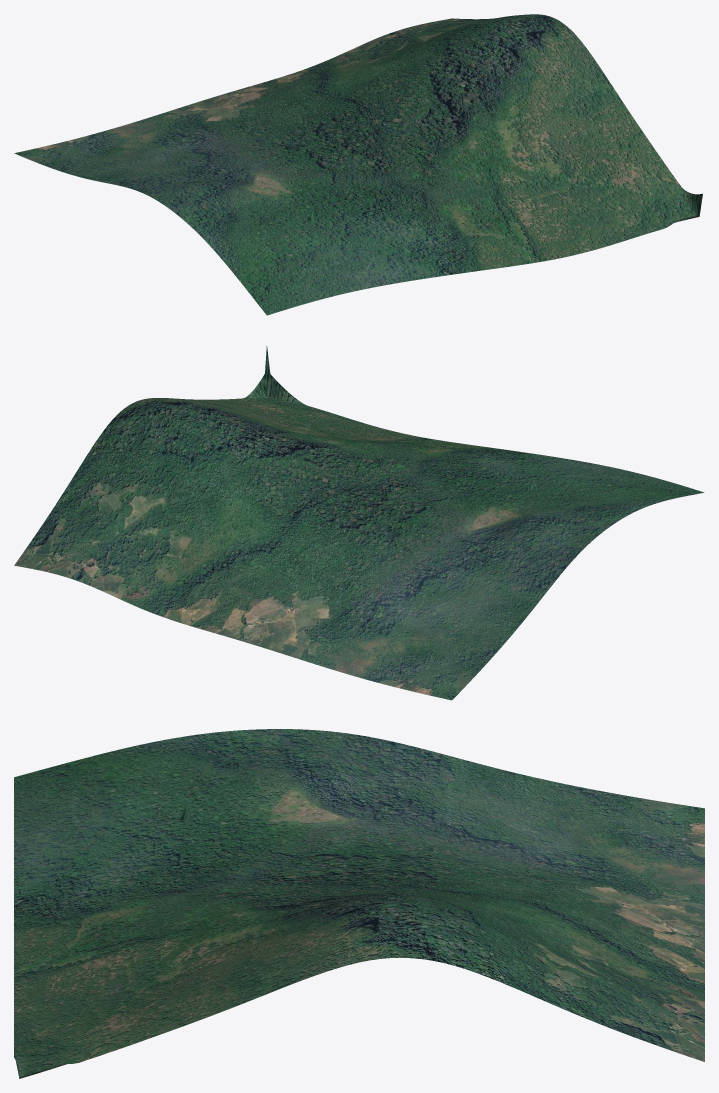
File: terrain_real_T_E00_N06.glb
The picture shows the model from 3 angles, top to bottom: view 1: azimuth 30°, elevation 25°; view 2: azimuth 150°, elevation 25°; view 3: azimuth 270°, elevation 25°; orthographic projection. The views are drawn at different scales.
Parts seen in each view (by area): view 1: Terrain_Real_DEM_T_E00_N06; view 2: Terrain_Real_DEM_T_E00_N06; view 3: Terrain_Real_DEM_T_E00_N06.
Boxes of the visible parts, x1,y1,x2,y2 form: Terrain_Real_DEM_T_E00_N06: (14, 14, 702, 315); Terrain_Real_DEM_T_E00_N06: (14, 346, 704, 700); Terrain_Real_DEM_T_E00_N06: (14, 729, 704, 1078).
Size of the model in its own units: 2000 by 494 by 2000.
Materials: 1 (1 with a texture image).
